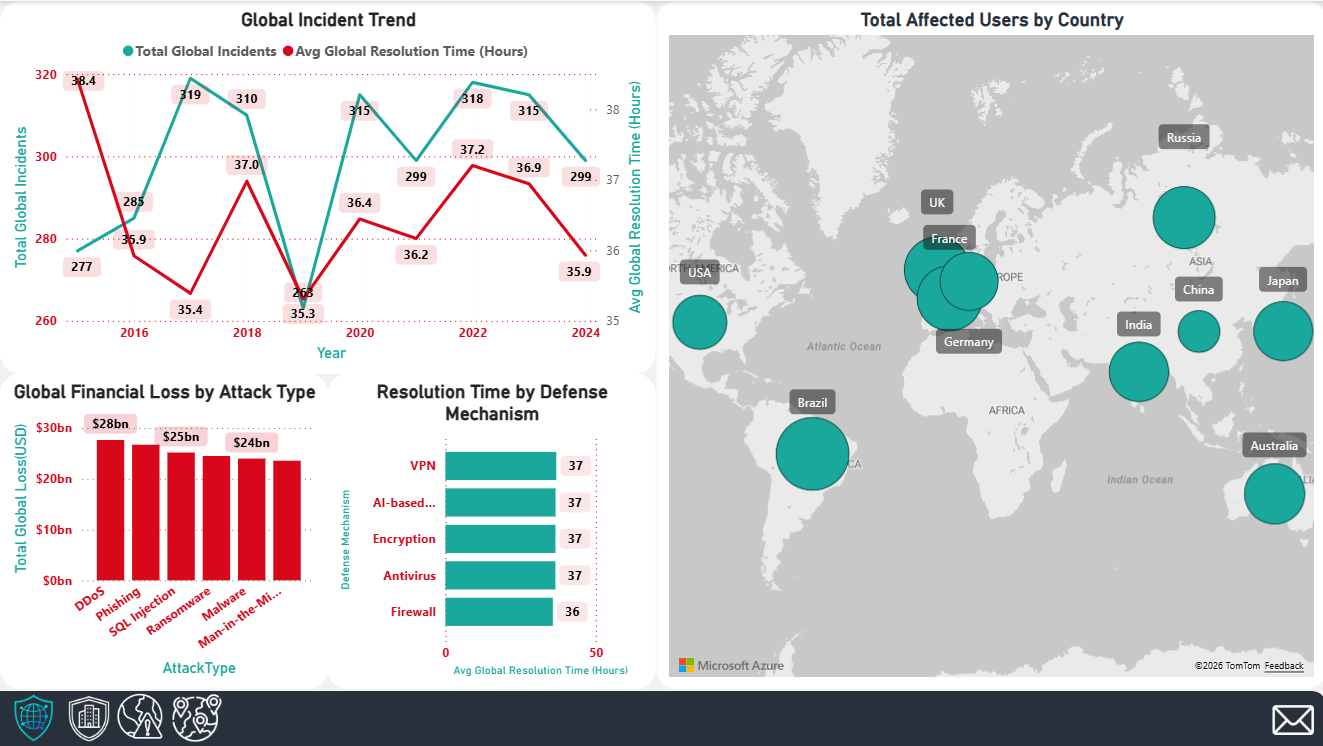

The page's visual inventory and layout, read from the dashboard file:
{"tool":"powerbi","page":{"name":"Global Threats","canvas":[1280,720],"ordinal":1},"visuals":[{"type":"lineChart","title":"Global Incident Trend","fields":{"Category":["Dim_Year.Year"],"Y":["Measures – GlobalThreats.Total Global Incidents"],"Y2":["Measures – GlobalThreats.Avg Global Resolution Time (Hours)"]},"box":[0,0,632.9,360],"z":0},{"type":"clusteredColumnChart","title":"Global Financial Loss by Attack Type","fields":{"Category":["Fact_GlobalThreats.AttackType"],"Y":["Measures – GlobalThreats.Total Global Loss(USD)"]},"box":[0,360,316.7,304.4],"z":1000},{"type":"shape","box":[0,665.7,1280,54.3],"z":2000},{"type":"azureMap","title":"Total Affected Users by Country","fields":{"Category":["Fact_GlobalThreats.Country"],"Size":["Measures – GlobalThreats.Total Affected Users"]},"box":[632.9,0,647.1,664.3],"z":3000},{"type":"clusteredBarChart","title":"Resolution Time by Defense Mechanism","fields":{"Category":["Fact_GlobalThreats.DefenseMechanism"],"Y":["Measures – GlobalThreats.Avg Global Resolution Time (Hours)"]},"box":[316.7,360,316.7,304.4],"z":4000},{"type":"image","title":"global risk","box":[113.8,665.2,43,51.2],"z":5000},{"type":"image","title":"CorporateCyber","box":[62.6,669,46.8,46.8],"z":6000},{"type":"image","title":"logo","box":[11.1,669.2,43.1,44.5],"z":7000},{"type":"image","title":"globalmaps","box":[167,667.8,47.3,47.3],"z":8000},{"type":"image","title":"mail","box":[1228.5,673.4,40.3,41.7],"z":9000}]}

Visuals, with their boxes in screenshot pixels (x1, y1, x2, y2), scaled from the page's 1280x720 canvas onto the 1323x746 screenshot:
"Global Incident Trend" lineChart: 0 0 654 373
"Global Financial Loss by Attack Type" clusteredColumnChart: 0 373 327 688
shape: 0 690 1322 745
"Total Affected Users by Country" azureMap: 654 0 1322 688
"Resolution Time by Defense Mechanism" clusteredBarChart: 327 373 655 688
"global risk" image: 118 689 162 742
"CorporateCyber" image: 65 693 113 742
"logo" image: 11 693 56 739
"globalmaps" image: 173 692 221 741
"mail" image: 1270 698 1311 741
